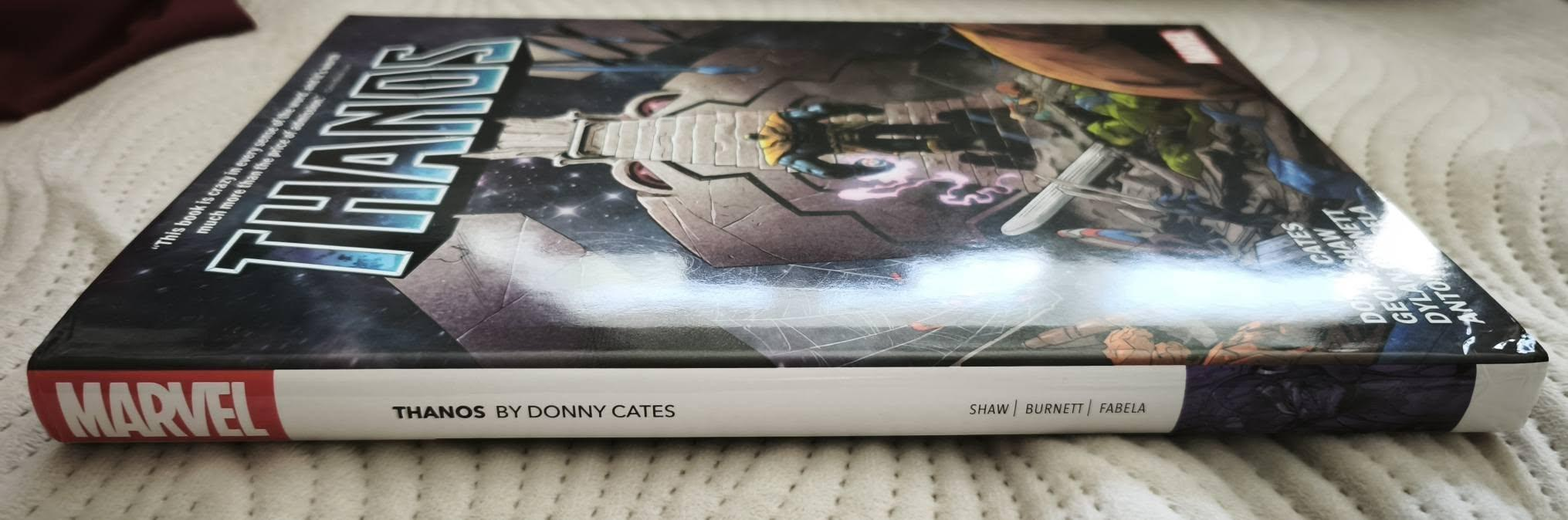comic: (30, 0, 1561, 448)
